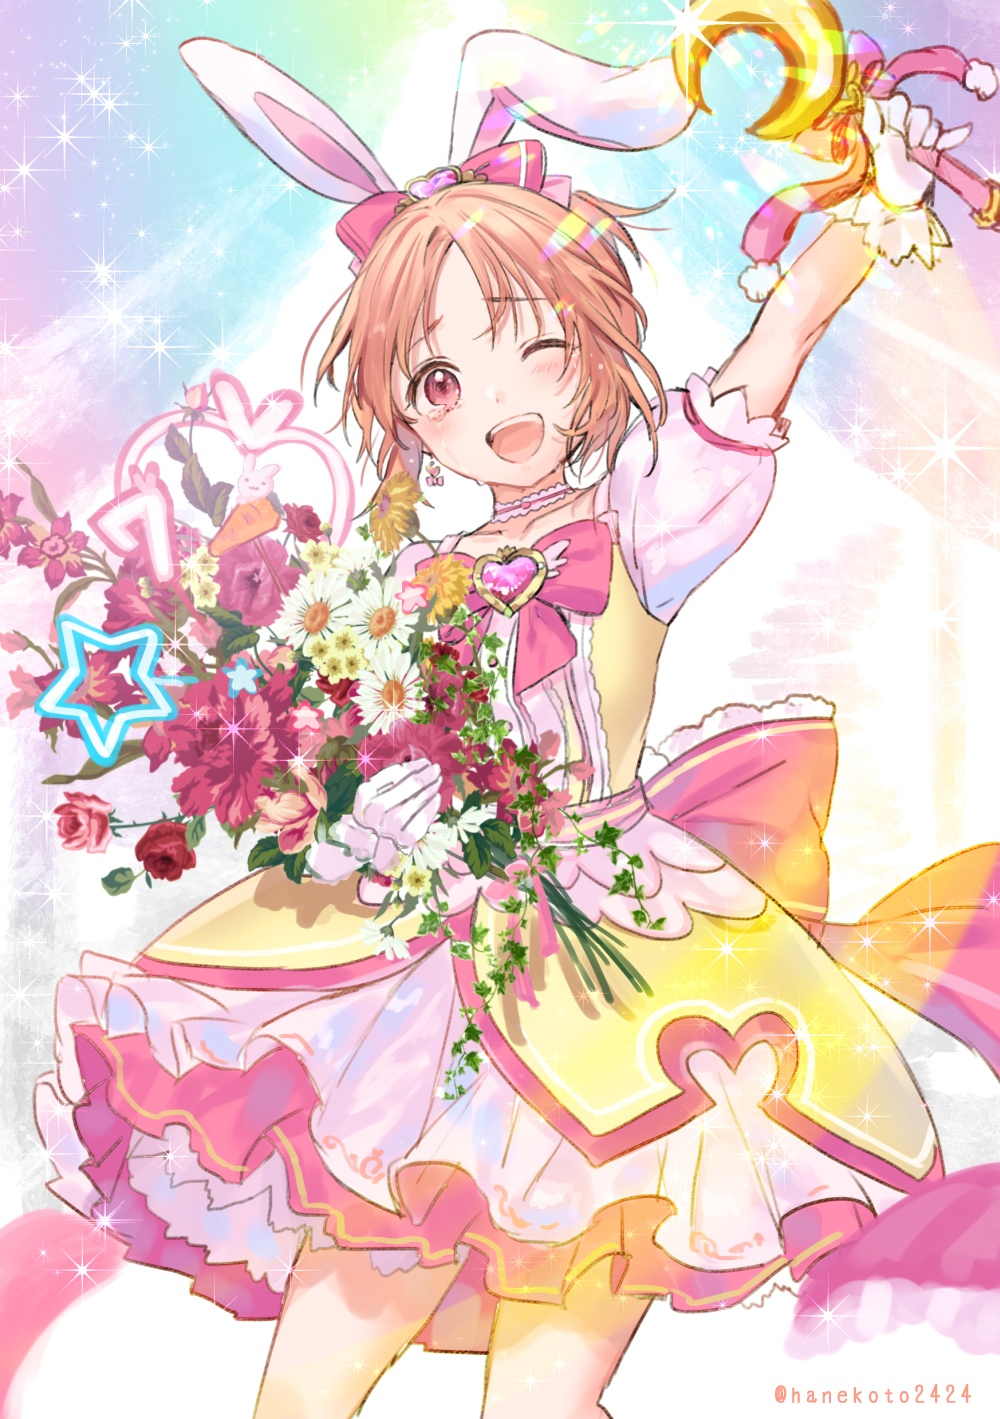纸片人正脸: (323, 165, 649, 496)
